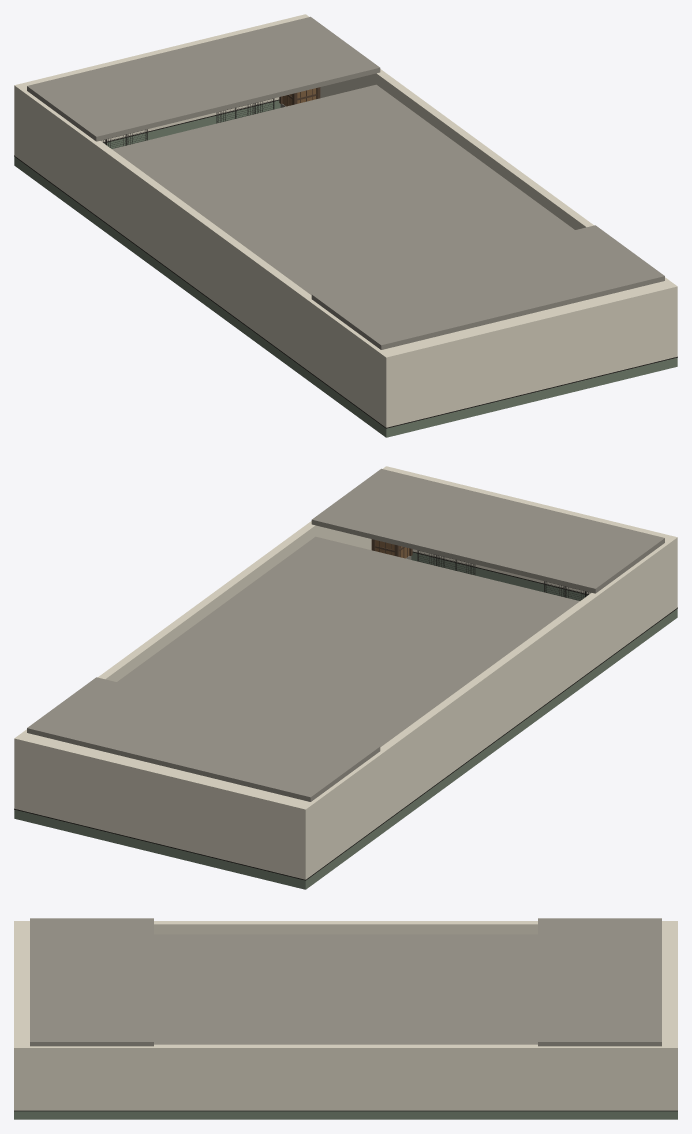
File: xilindro.glb
The picture shows the model from 3 angles, top to bottom: view 1: azimuth 30°, elevation 25°; view 2: azimuth 150°, elevation 25°; view 3: azimuth 270°, elevation 25°; orthographic projection. The views are drawn at different scales.
Visible parts, largest first — view 1: map_concrete_d.001, map_prison_cream.001, map_prison_green.001, map_prison_stripe.001, map_prison_iron.001; view 2: map_concrete_d.001, map_prison_cream.001, map_prison_green.001, map_prison_stripe.001, map_prison_iron.001; view 3: map_concrete_d.001, map_prison_cream.001, map_prison_green.001, map_prison_stripe.001.
Part boxes in pixels (x1,y1,x2,y2): map_concrete_d.001: [27, 16, 664, 349]; map_prison_cream.001: [14, 14, 677, 427]; map_prison_green.001: [14, 100, 677, 437]; map_prison_stripe.001: [14, 99, 677, 428]; map_prison_iron.001: [101, 98, 274, 148]; map_concrete_d.001: [27, 468, 664, 801]; map_prison_cream.001: [14, 466, 677, 879]; map_prison_green.001: [14, 552, 677, 889]; map_prison_stripe.001: [14, 551, 677, 880]; map_prison_iron.001: [417, 550, 590, 600]; map_concrete_d.001: [30, 918, 661, 1046]; map_prison_cream.001: [14, 921, 677, 1110]; map_prison_green.001: [14, 1111, 677, 1119]; map_prison_stripe.001: [14, 1110, 677, 1111].
Bounding box in the file's own units: 38.04 × 10.67 × 84.04.
